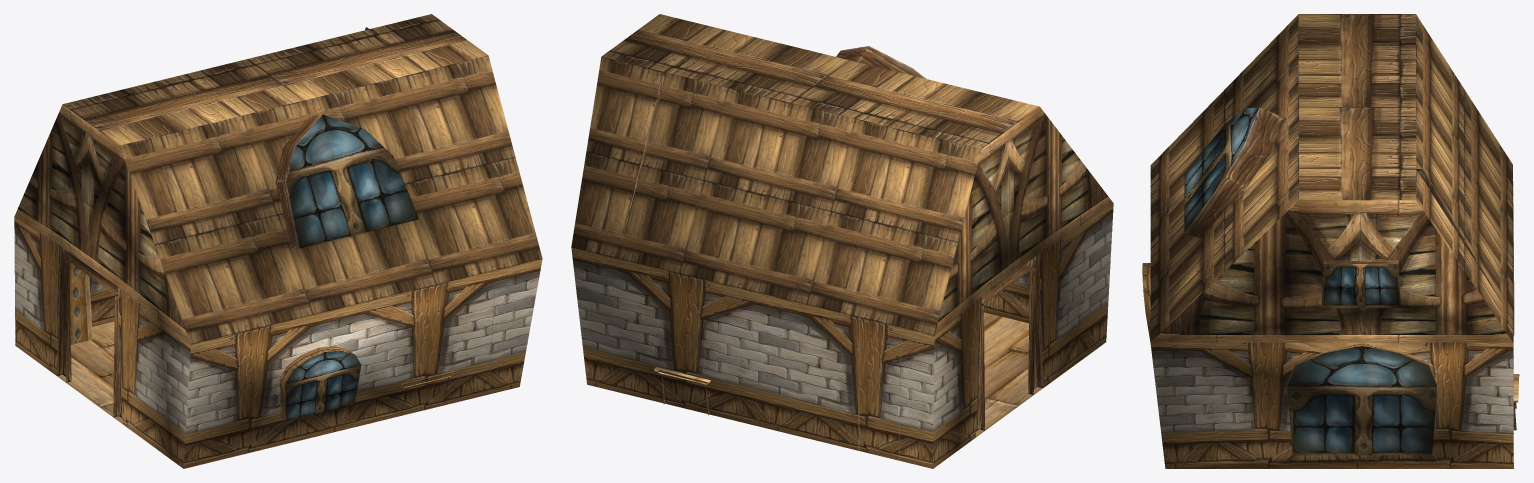
The model's file is stormwind_216.fbx.
3 renders of one model, left to right at view 1: azimuth 30°, elevation 25°; view 2: azimuth 150°, elevation 25°; view 3: azimuth 270°, elevation 25°, orthographic. The views are drawn at different scales.
Parts seen in each view (by area): view 1: stormwind_216_55, stormwind_216_87, stormwind_216_49, stormwind_216_84, stormwind_216_53, stormwind_216_51; view 2: stormwind_216_55, stormwind_216_87, stormwind_216_49, stormwind_216_53, stormwind_216_51; view 3: stormwind_216_55, stormwind_216_87, stormwind_216_49, stormwind_216_84, stormwind_216_53.
Boxes of the visible parts, left/top/right/bottom form: stormwind_216_55: left=63, top=14, right=542, bottom=344; stormwind_216_87: left=14, top=217, right=542, bottom=468; stormwind_216_49: left=14, top=104, right=190, bottom=344; stormwind_216_84: left=285, top=114, right=419, bottom=420; stormwind_216_53: left=57, top=27, right=494, bottom=461; stormwind_216_51: left=57, top=321, right=122, bottom=423; stormwind_216_55: left=571, top=14, right=1039, bottom=335; stormwind_216_87: left=571, top=203, right=1113, bottom=468; stormwind_216_49: left=935, top=107, right=1113, bottom=334; stormwind_216_53: left=623, top=46, right=1042, bottom=460; stormwind_216_51: left=976, top=312, right=1042, bottom=437; stormwind_216_55: left=1150, top=14, right=1513, bottom=342; stormwind_216_87: left=1142, top=232, right=1513, bottom=468; stormwind_216_49: left=1151, top=200, right=1512, bottom=342; stormwind_216_84: left=1184, top=107, right=1436, bottom=455; stormwind_216_53: left=1184, top=107, right=1514, bottom=453.
Size of the model in its own units: 11.9 by 8.48 by 10.16.
